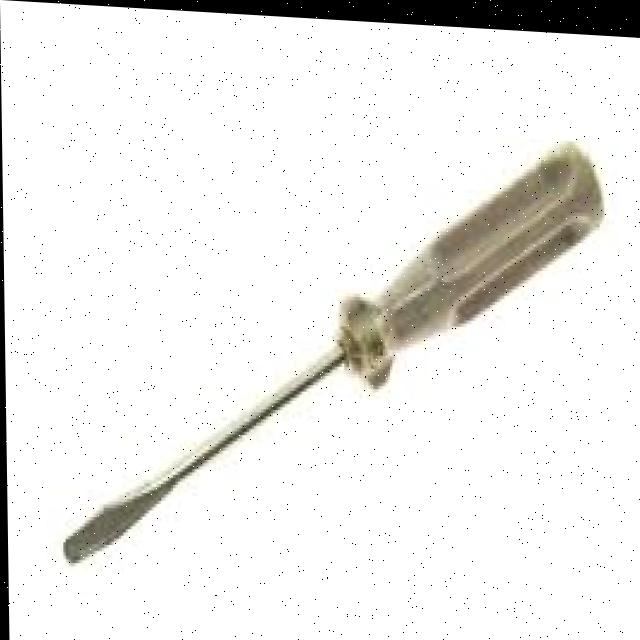Screwdriver: (63, 136, 602, 561)
